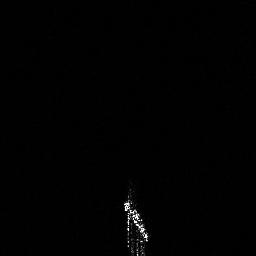ship: (120, 190, 154, 256)
